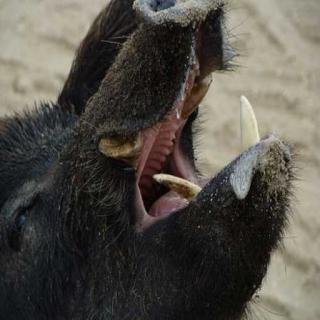Pig: (0, 0, 317, 306)
